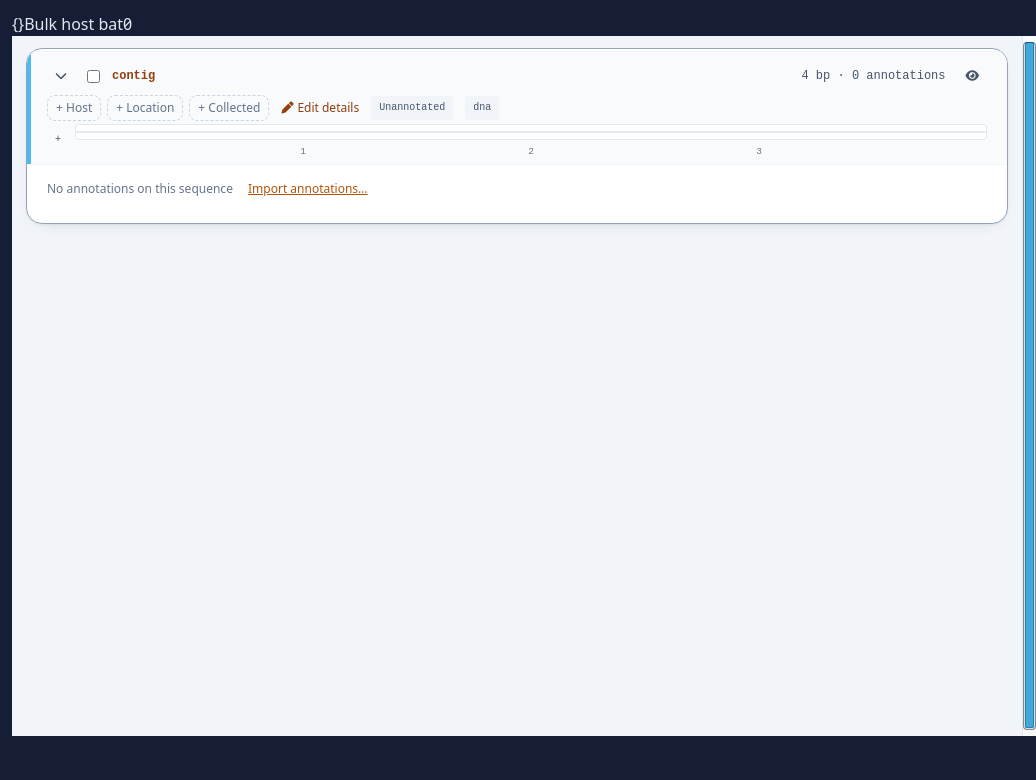
Test case: sequence details editing › creates source details on FASTA without adding an annotation and can revert to an absent file value
Click the button "Edit details" at {"x": 320, "y": 108}, box [281,96,359,120]
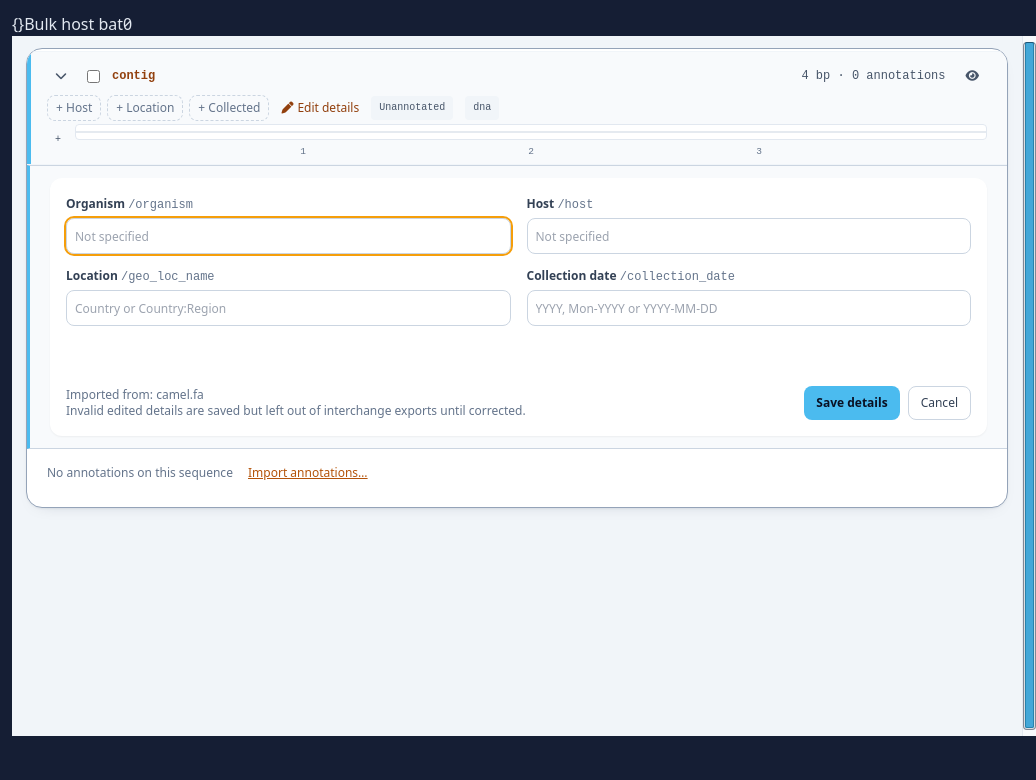
Check: the text "/organism" is shown, box [128,198,193,212]
Check: the text "/geo_loc_name" is shown, box [121,270,214,284]
Check: the text "camel.fa" is shown, box [156,387,204,403]
Type "camel" into the field labelled "Host" at {"x": 749, "y": 236}, box [526,218,971,254]
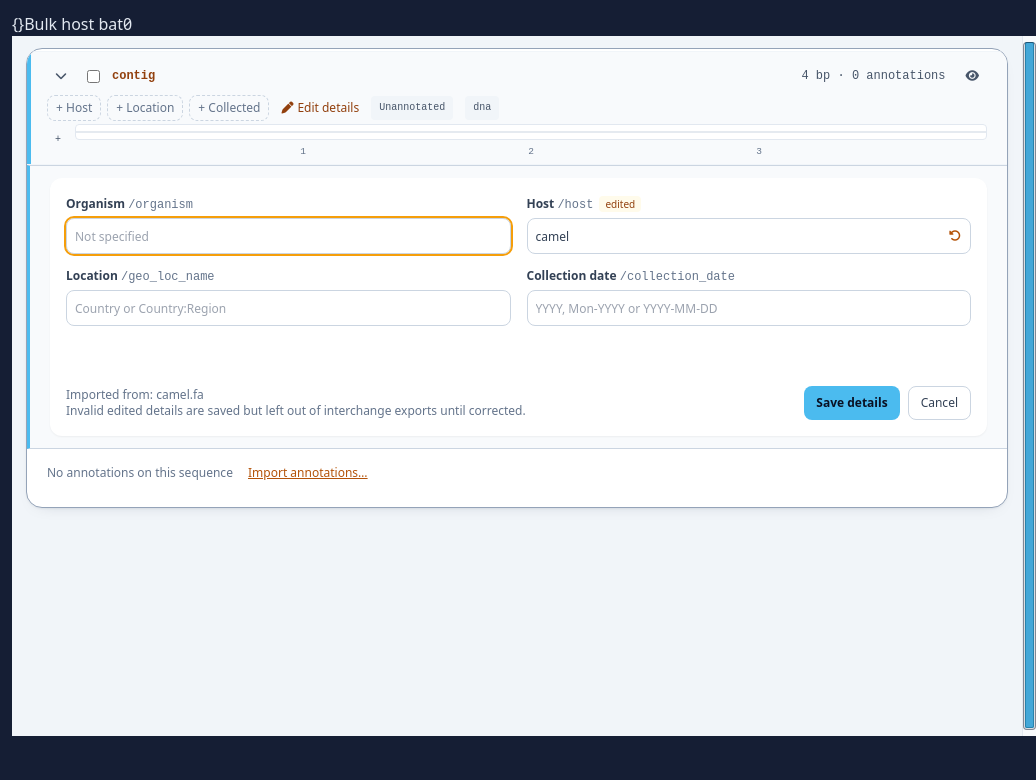
Click the button "Save details" at {"x": 852, "y": 403}, box [804,386,900,420]
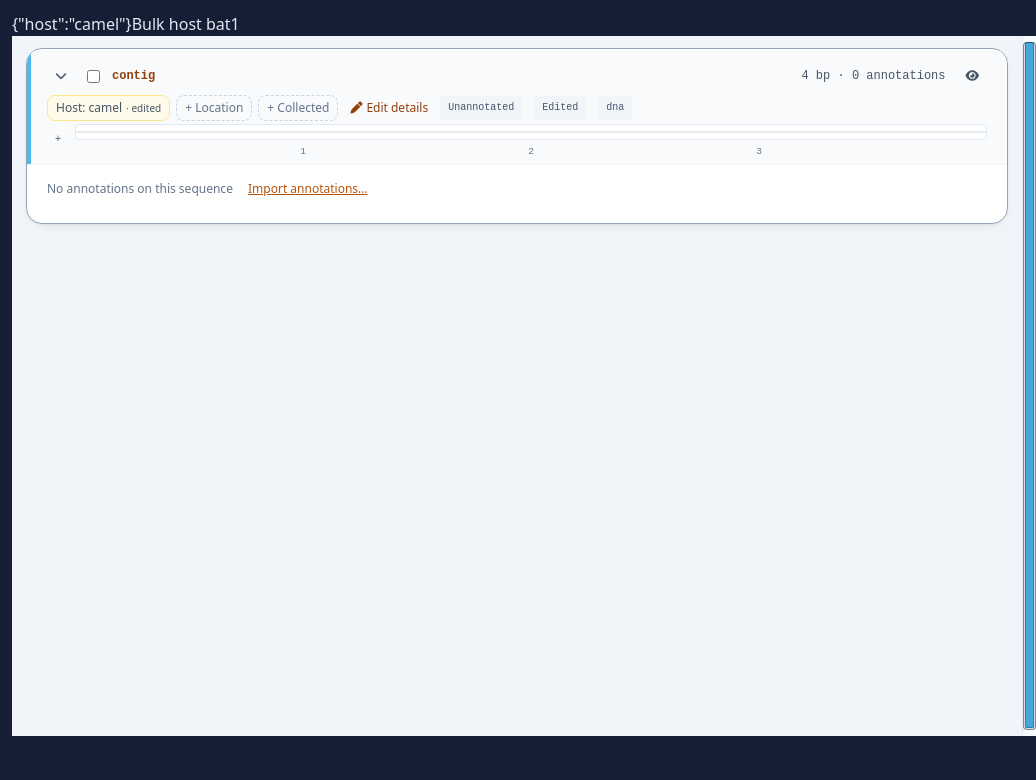
Check: the text "4 bp · 0 annotations" is shown, box [802,69,946,83]
Check: the text named "Saved details" reads "{\"host\":\"camel\"}", box [12,13,132,35]
Check: the text named "Feature count" reads "1", box [231,13,240,35]
Click the button "Edit details" at {"x": 389, "y": 108}, box [350,96,428,120]
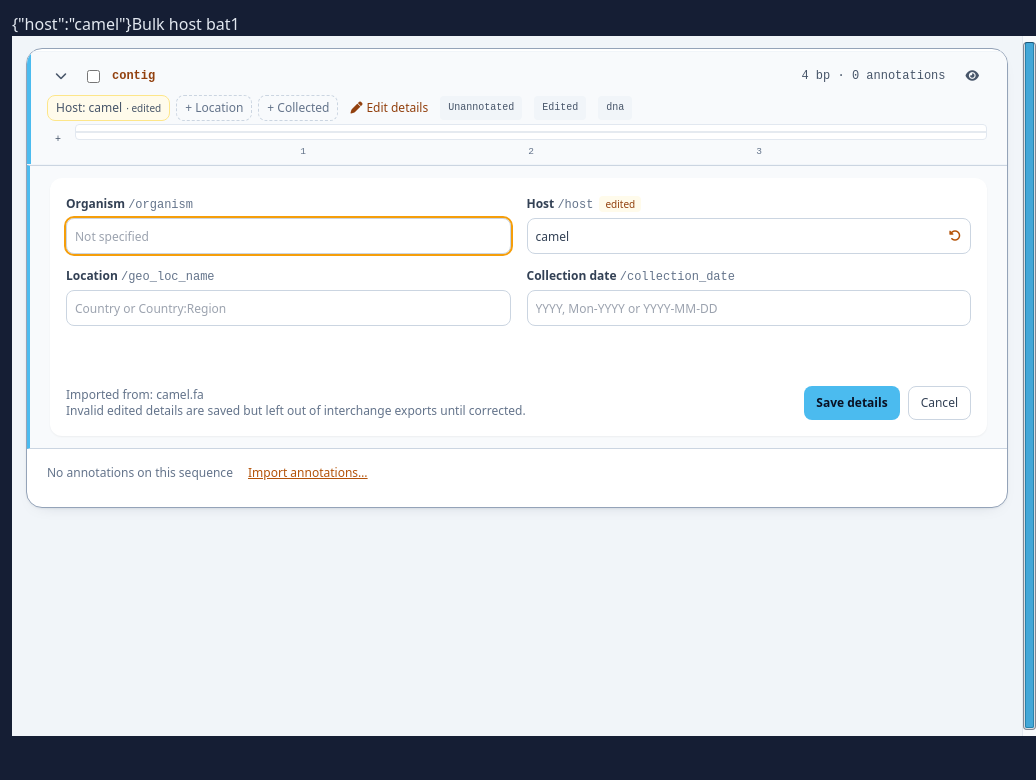
Click the button named "Revert Host to the file's value" at {"x": 955, "y": 236}, box [943,222,967,250]
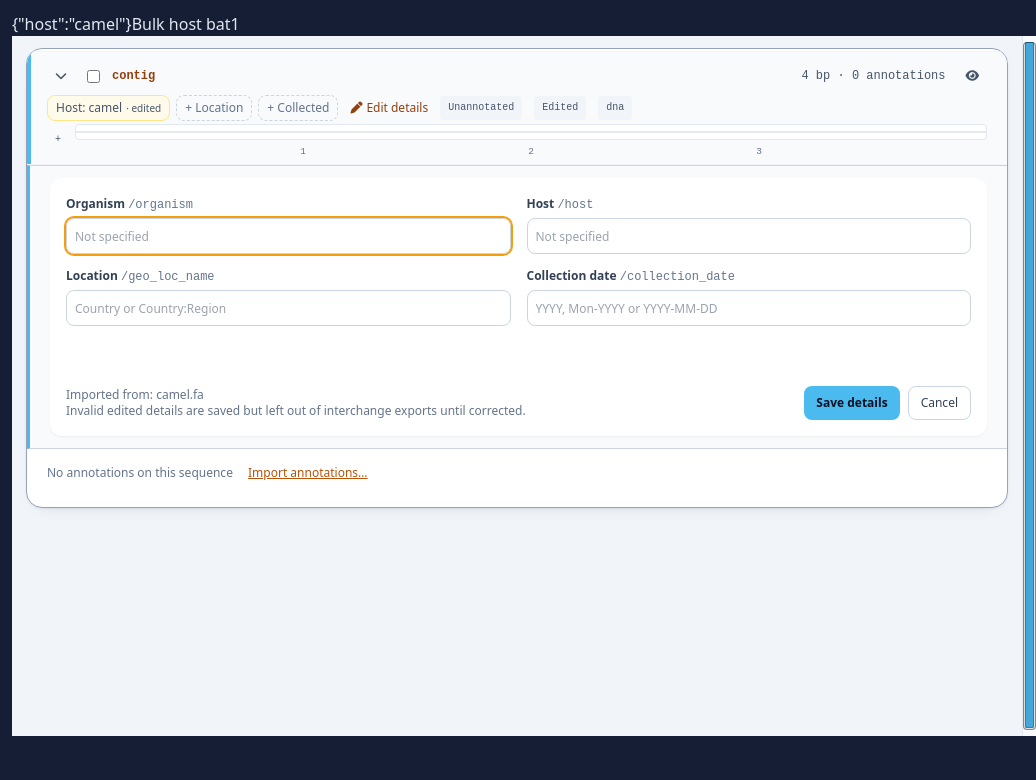
Click the button "Save details" at {"x": 852, "y": 403}, box [804,386,900,420]
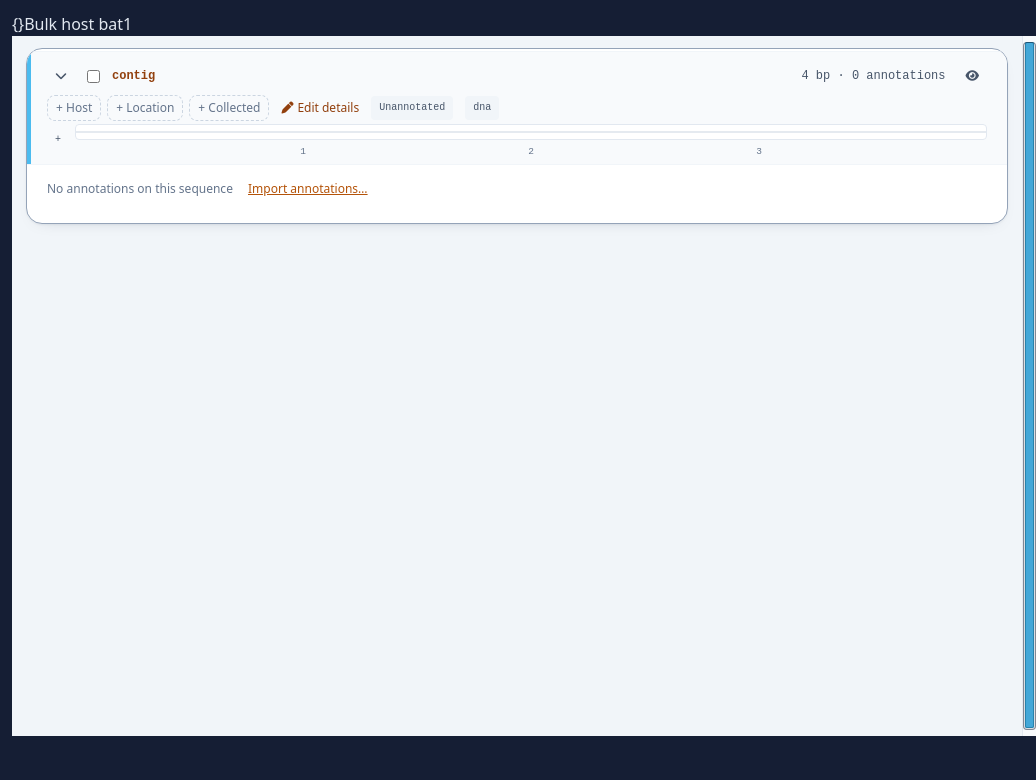
Check: the text named "Saved details" reads "{}", box [12,13,24,35]
